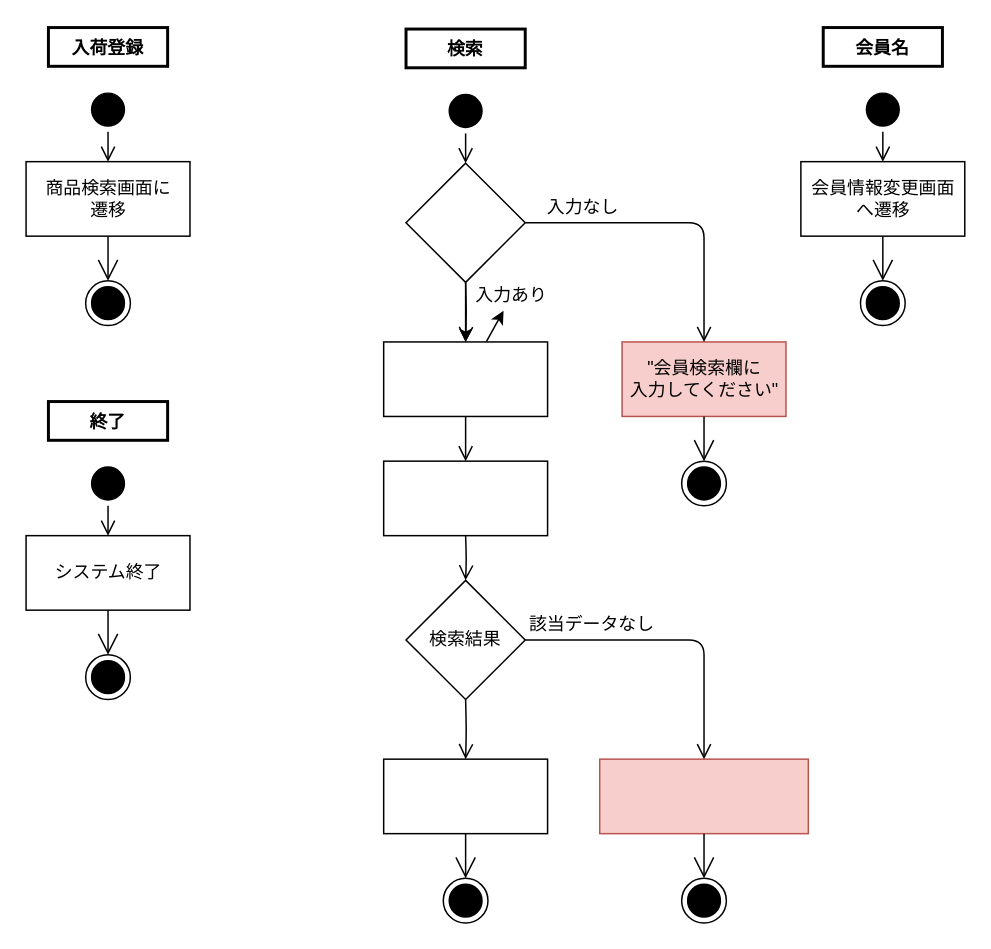
The diagram is 991 pixels wide and 949 high, and some of its shapes have lost their labels. The centre of each missing label's shape, as x and y in pixels:
"該当の会員情報が 見つかりませんでした": pixel 703 796
会員名から 入力内容を曖昧検索: pixel 465 498
会員情報.csvから 会員情報を取得: pixel 465 378
会員検索: pixel 465 222
該当データを テーブルに出力: pixel 465 796
